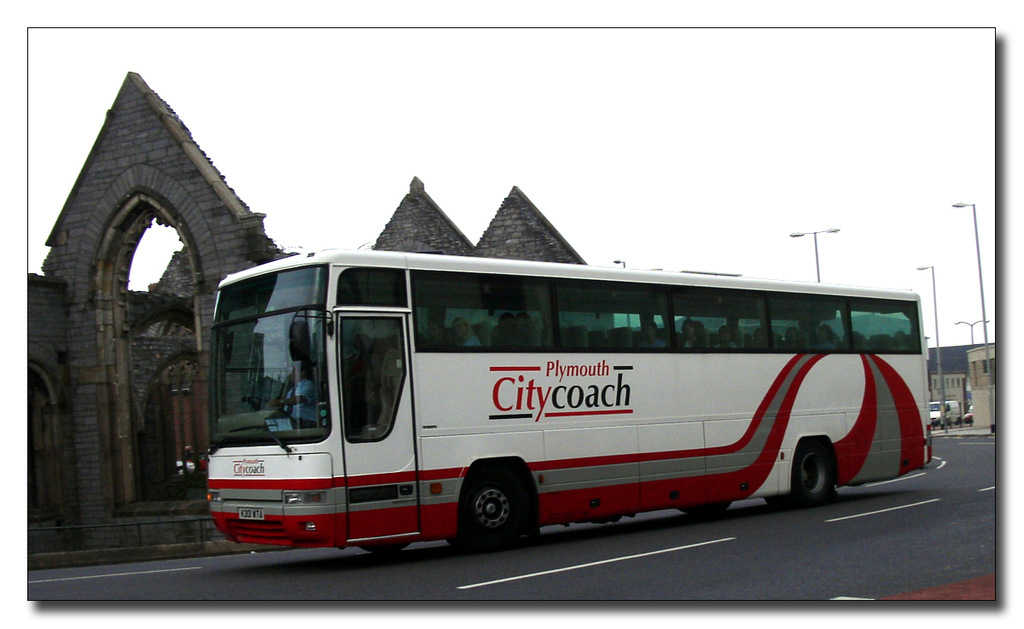Bus: (202, 245, 933, 547)
